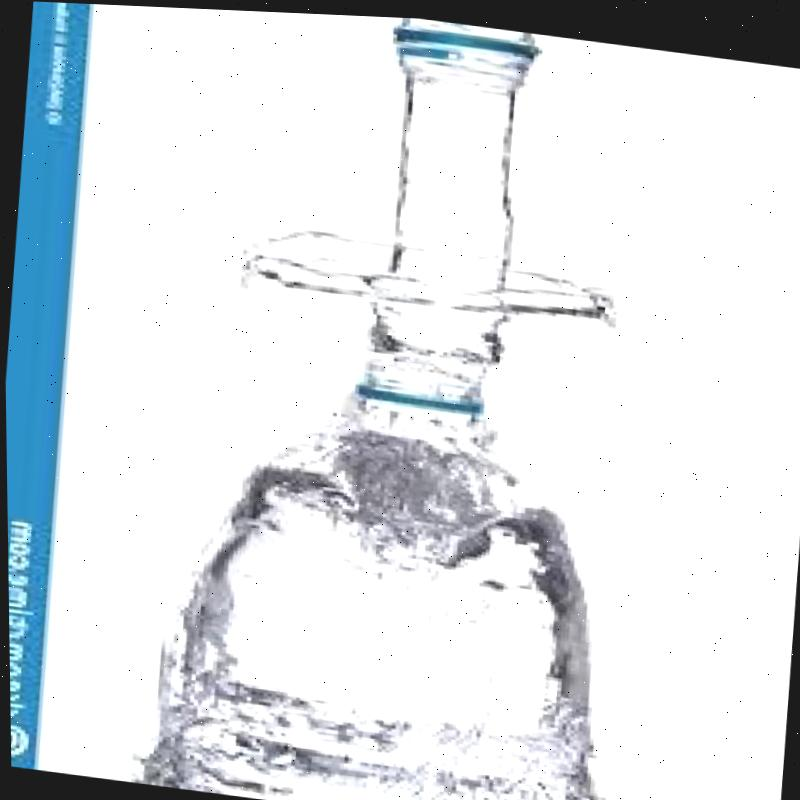botella: (145, 326, 632, 800)
